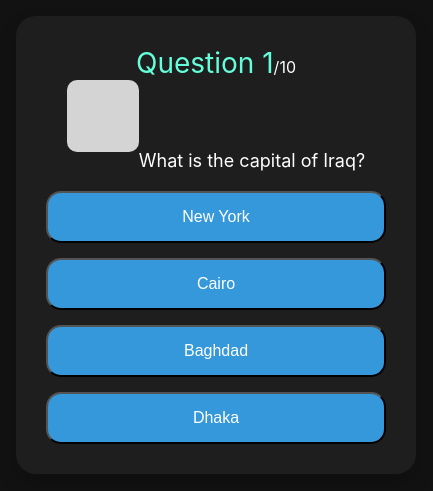
Test: selects the correct answer and advances to the next question
This screenshot has width=433, height=491.
// Select the correct answer for the first question
Click the button "Baghdad" at (216, 351), box [46,325,386,377]
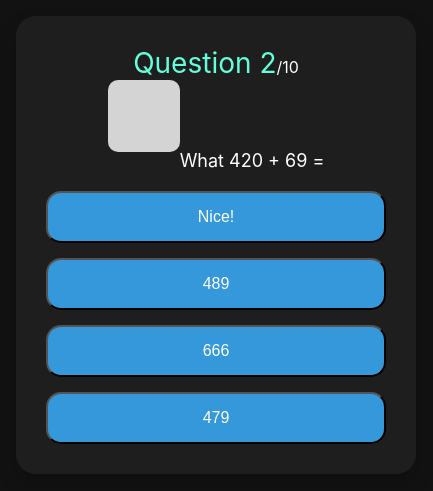
Expected: the text "What 420 + 69 =" is shown, [108,80,324,171]
